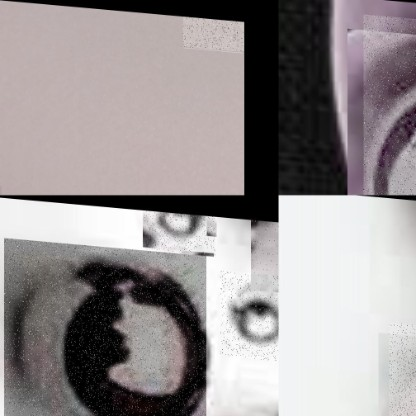ironball: (3, 236, 205, 415), (363, 10, 415, 195), (220, 264, 278, 355), (144, 205, 215, 249), (181, 10, 242, 44), (250, 213, 278, 287)
